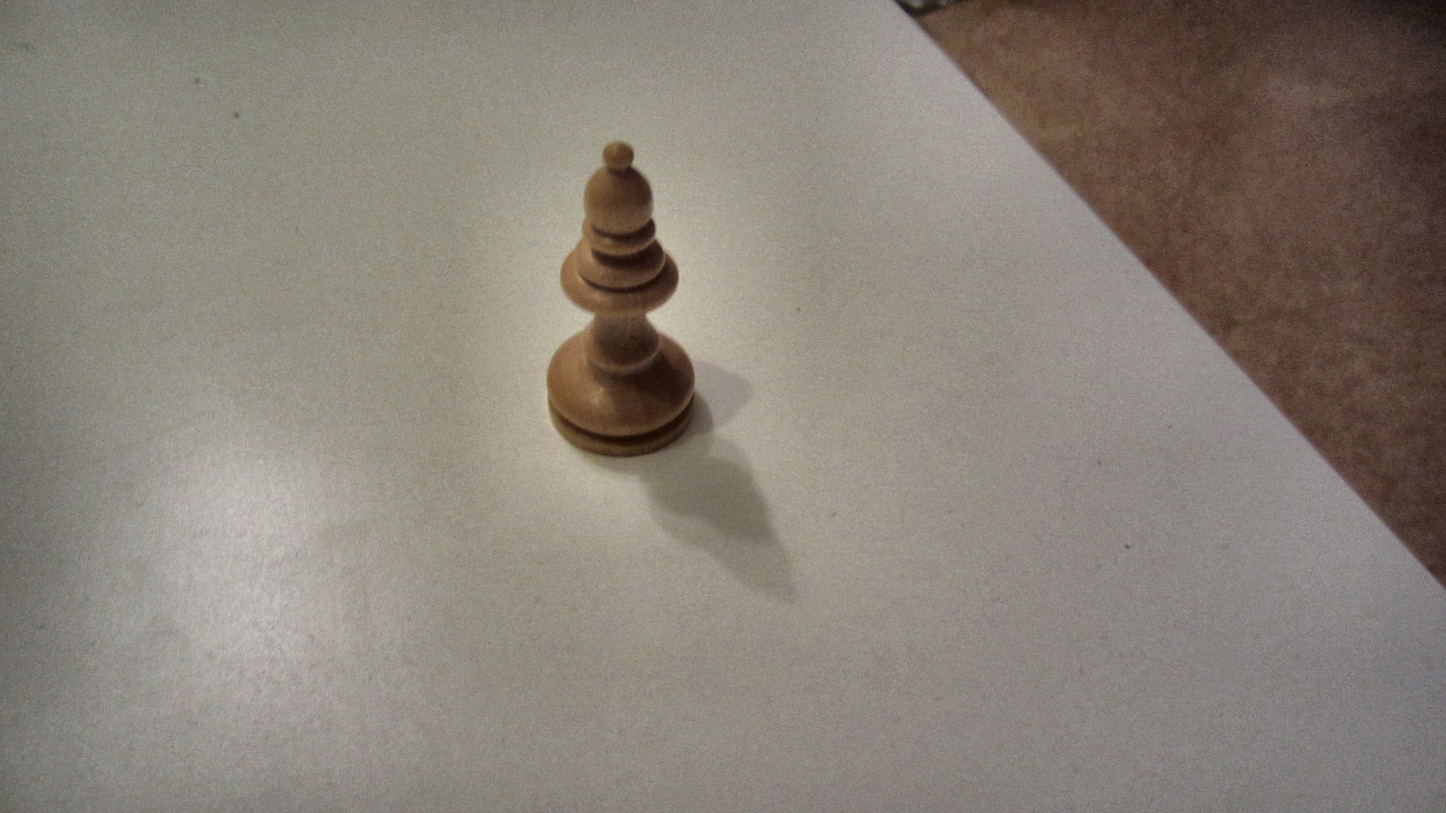white-bishop: (540, 140, 699, 461)
